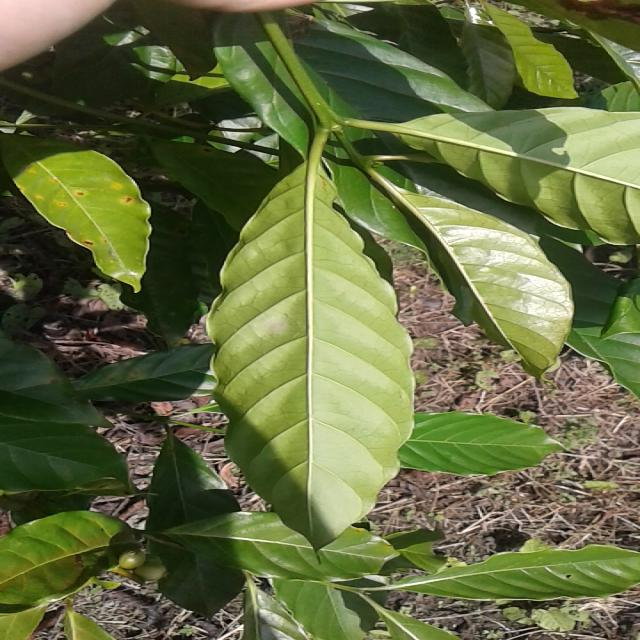Sanas: (206, 146, 431, 552)
